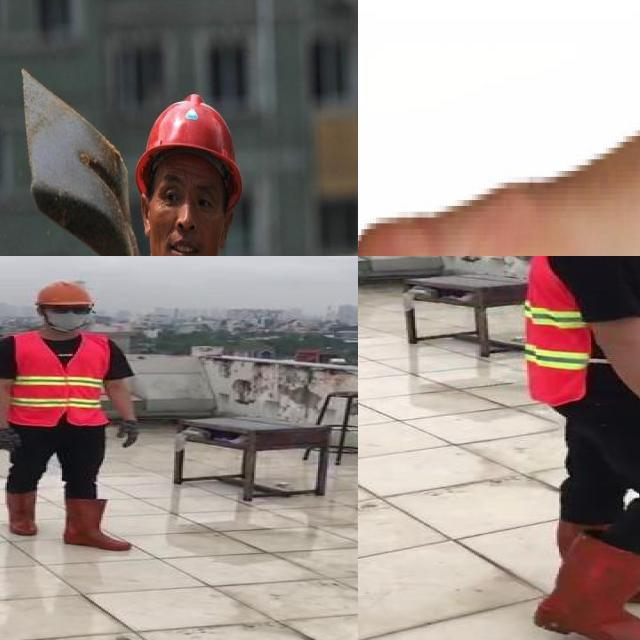Barefoots: (358, 87, 640, 256)
No_Ear-Protection: (141, 193, 151, 236)
No_Glasses: (157, 176, 220, 217)
boots: (528, 530, 640, 640), (60, 496, 135, 549), (3, 491, 39, 535)
face_mask: (45, 304, 90, 328)
face_nomask: (150, 212, 221, 256)
glasses: (45, 301, 95, 315)
hand_glove: (112, 419, 140, 448), (0, 427, 23, 452)
head_helmet: (135, 94, 243, 209), (30, 277, 98, 306)
person: (486, 256, 640, 640), (0, 277, 144, 554)
vest: (527, 256, 640, 407), (12, 332, 114, 426)
